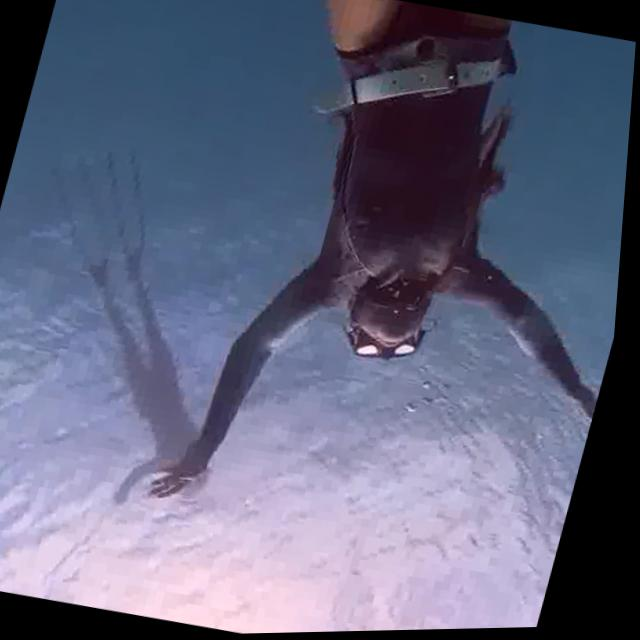human: (153, 0, 640, 593), (29, 211, 294, 539)
